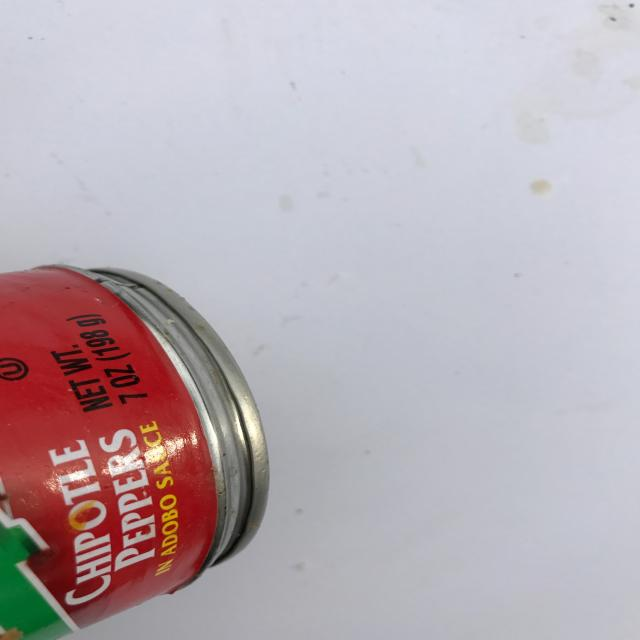metal: (0, 262, 271, 640)
